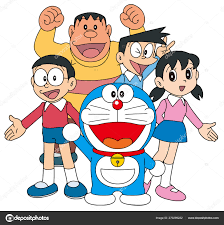doraemon: (61, 81, 165, 208)
